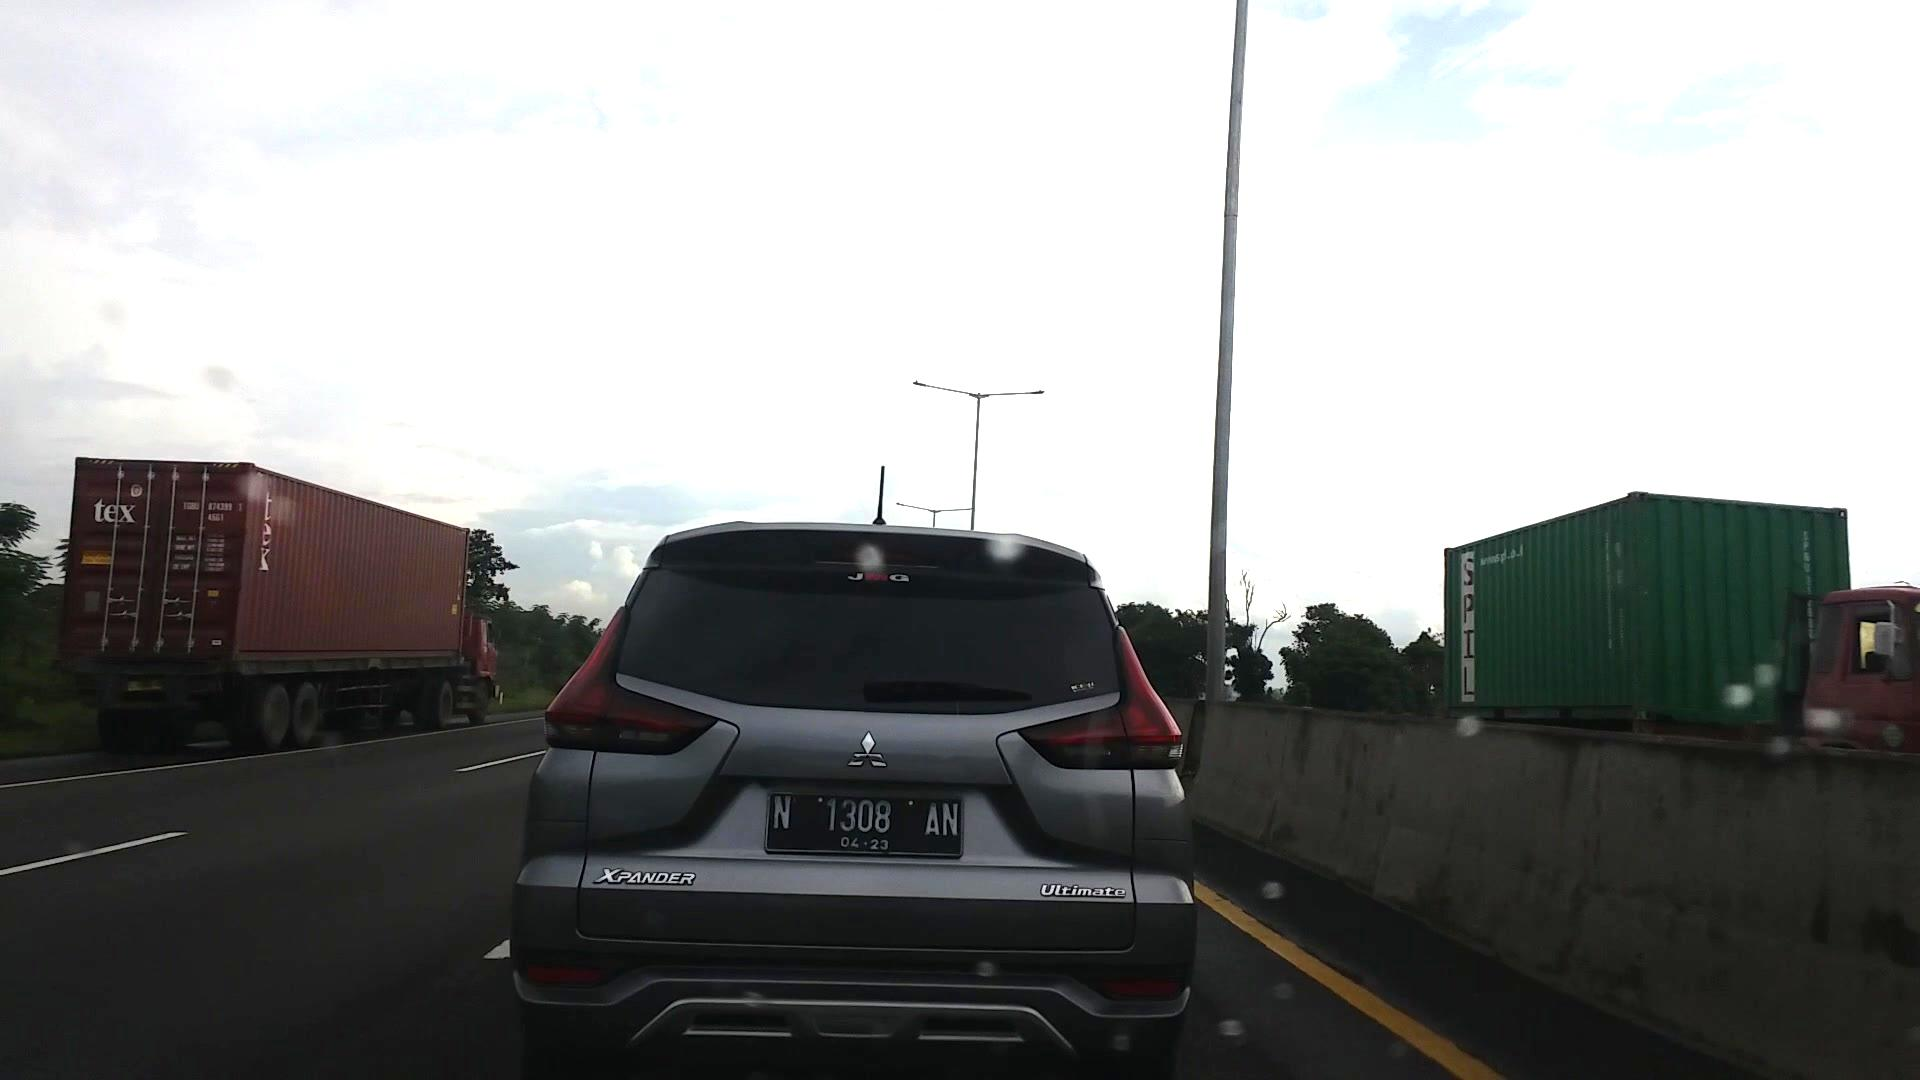plate_positive: (765, 791, 963, 857)
